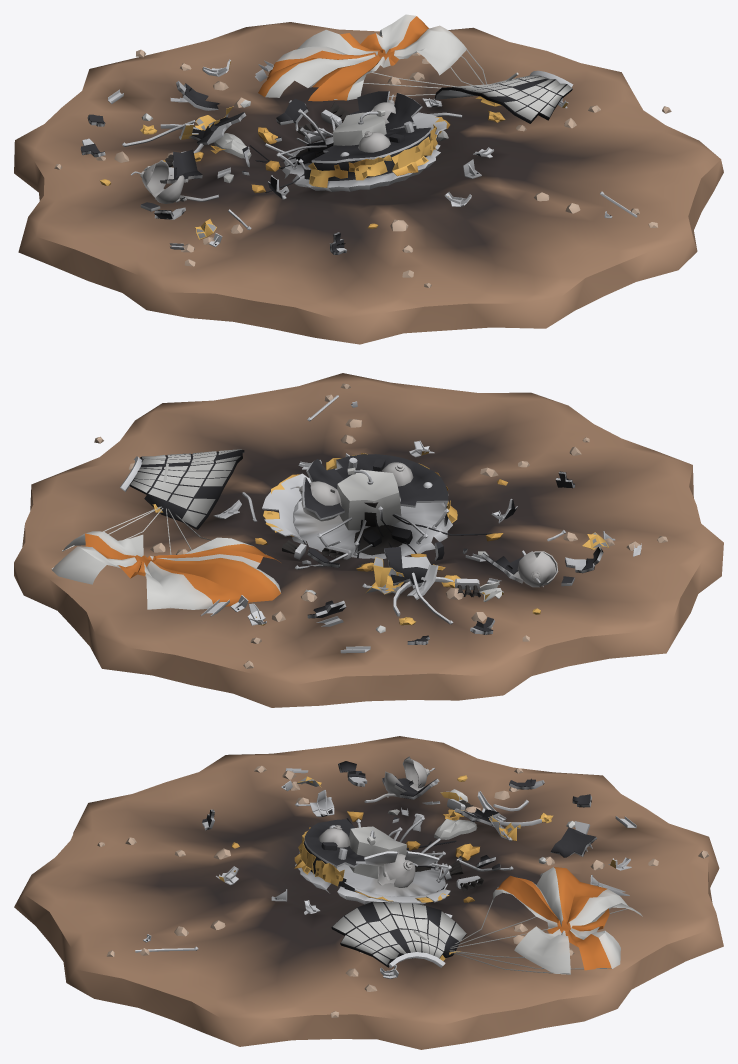
The model's file is schiaparelli_wreck.glb.
The picture shows the model from 3 angles, top to bottom: view 1: azimuth 30°, elevation 25°; view 2: azimuth 150°, elevation 25°; view 3: azimuth 270°, elevation 25°; orthographic projection. The views are drawn at different scales.
Visible parts, largest first — view 1: schiaparelli_wreck_mesh; view 2: schiaparelli_wreck_mesh; view 3: schiaparelli_wreck_mesh.
Part boxes in pixels (bbox=[...]): schiaparelli_wreck_mesh: bbox=[14, 14, 723, 344]; schiaparelli_wreck_mesh: bbox=[14, 373, 723, 707]; schiaparelli_wreck_mesh: bbox=[14, 736, 723, 1049].
Bounding box in the file's own units: 7.75 × 0.9768 × 7.91.
